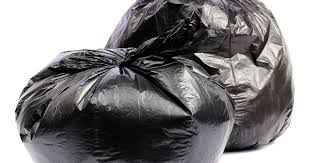Trash: (95, 1, 296, 149), (9, 49, 236, 162)
